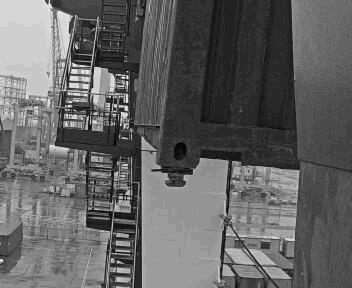twist_lock_1: (154, 158, 200, 196)
